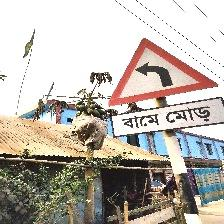Left-Turn: (107, 38, 224, 136)
